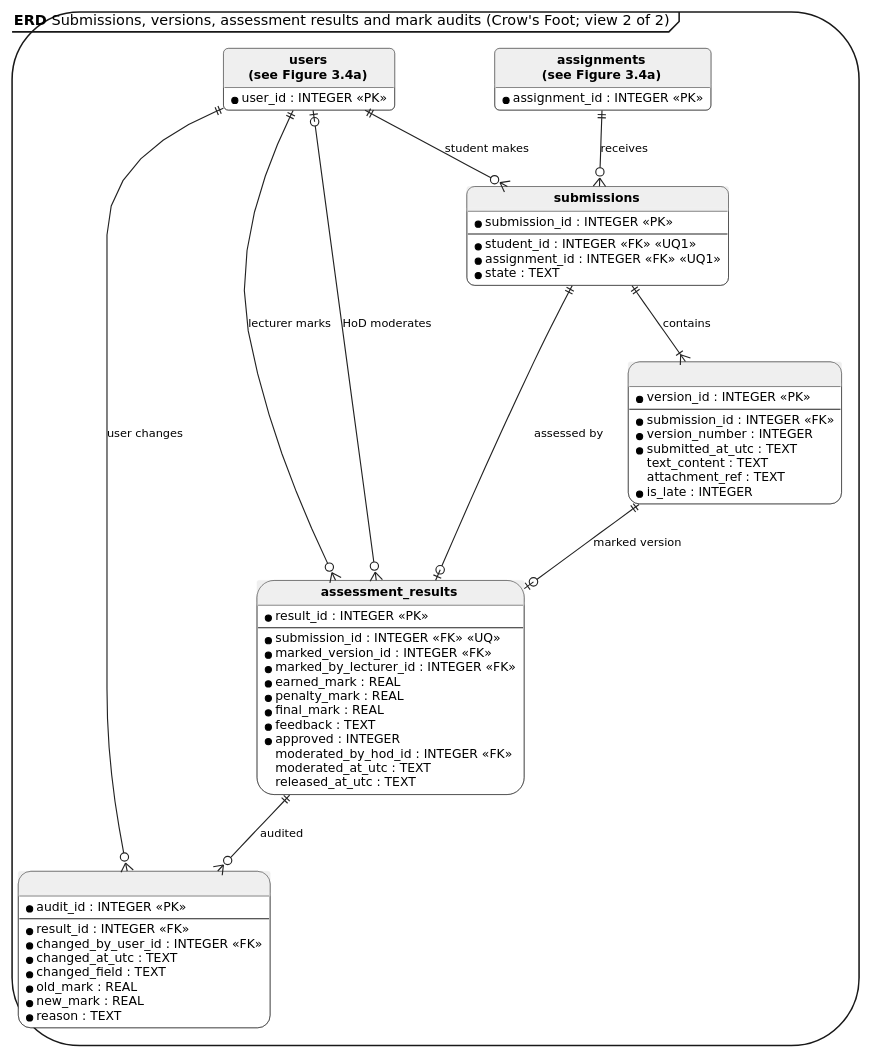
The diagram is 871 pixels wide and 1058 high, and some of its shapes have lost their labels. Each missing label, with the centre of its shape:
mark_change_audits: (x=144, y=883)
submission_versions: (x=735, y=374)
